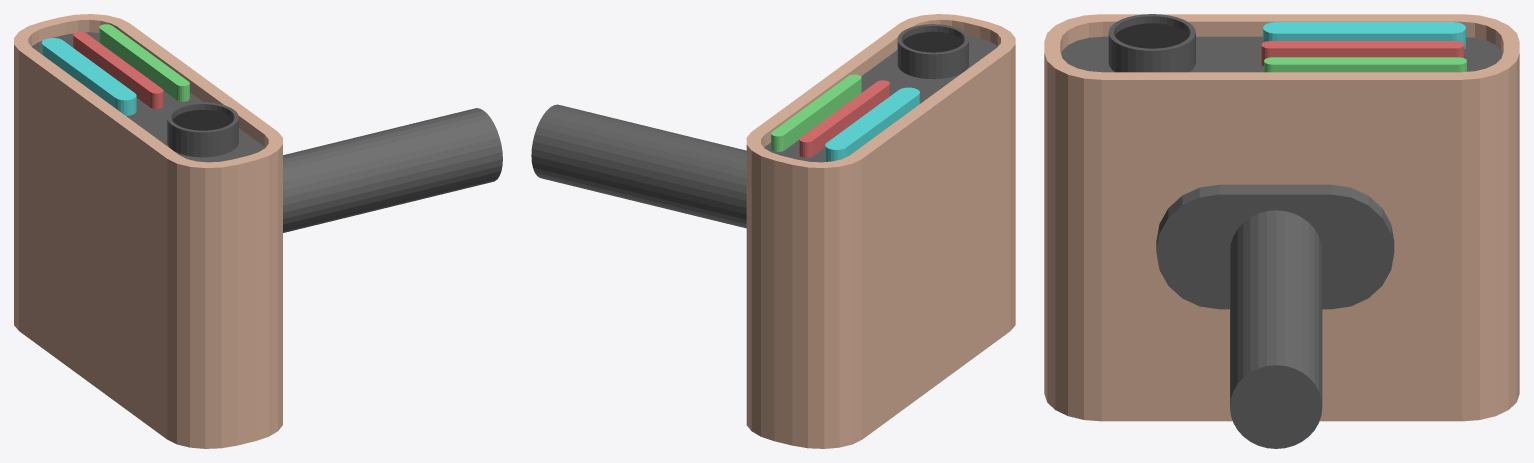
3 renders of one model, left to right at view 1: azimuth 30°, elevation 25°; view 2: azimuth 150°, elevation 25°; view 3: azimuth 270°, elevation 25°, orthographic. The views are drawn at different scales.
Visible parts, largest first — view 1: Cube; view 2: Cube; view 3: Cube.
Boxes of the visible parts, bbox=[...] form: Cube: bbox=[14, 14, 502, 448]; Cube: bbox=[531, 14, 1015, 448]; Cube: bbox=[1044, 14, 1519, 448].
Size of the model in its own units: 52.84 by 38.13 by 46.05.
